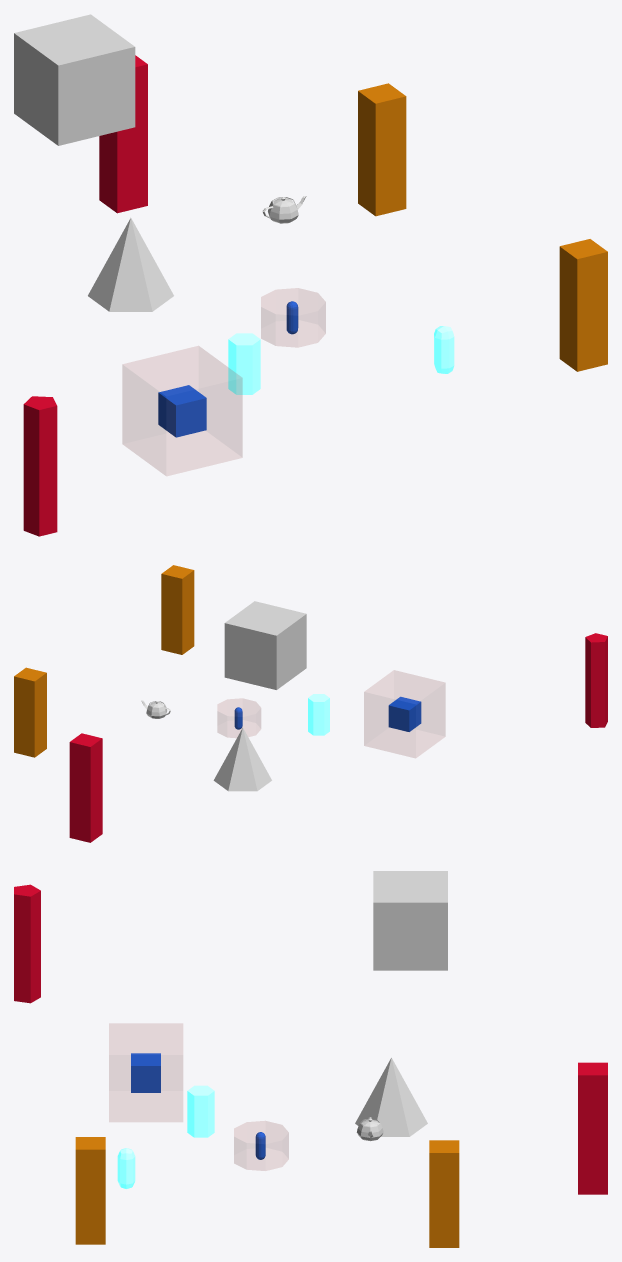
File: Level2.glb
The picture shows the model from 3 angles, top to bottom: view 1: azimuth 30°, elevation 25°; view 2: azimuth 150°, elevation 25°; view 3: azimuth 270°, elevation 25°; orthographic projection. The views are drawn at different scales.
Parts seen in each view (by area): view 1: FallingCube, container_sensor, Pillar_geometry (×2), Cylinder, Cube.004, Test_comps, player_sensor, Container, GlowyThing, Health_Pickup_geometry, MagicTeapot; view 2: FallingCube, container_sensor, Pillar_geometry (×2), Cube.004, Cylinder, Test_comps, player_sensor, Container, GlowyThing; view 3: FallingCube, container_sensor, Pillar_geometry (×2), Cube.004, Cylinder, Test_comps, player_sensor, GlowyThing, Container, Health_Pickup_geometry.
Boxes of the visible parts, x1,y1,x2,y2 form: FallingCube: (14,14,135,145); container_sensor: (122,346,242,475); Pillar_geometry (×2): (358,83,607,371); Cylinder: (23,396,57,536); Cube.004: (99,55,147,213); Test_comps: (88,218,173,311); player_sensor: (261,288,325,347); Container: (158,385,206,437); GlowyThing: (228,333,260,394); Health_Pickup_geometry: (434,326,454,373); MagicTeapot: (262,196,306,223); FallingCube: (224,601,306,689); container_sensor: (364,670,445,757); Pillar_geometry (×2): (14,565,194,757); Cube.004: (69,733,102,842); Cylinder: (585,633,607,727); Test_comps: (213,727,271,791); player_sensor: (217,698,260,737); Container: (388,696,421,731); GlowyThing: (308,694,329,735); FallingCube: (373,871,447,970); container_sensor: (109,1023,182,1121); Pillar_geometry (×2): (75,1137,459,1247); Cube.004: (578,1062,607,1194); Cylinder: (14,884,40,1003); Test_comps: (355,1057,427,1136); player_sensor: (234,1121,288,1170); GlowyThing: (187,1085,214,1137); Container: (131,1053,160,1092); Health_Pickup_geometry: (117,1148,135,1188).
Size of what is drawn, in the model's own units: 40.26 by 17.68 by 39.66.
